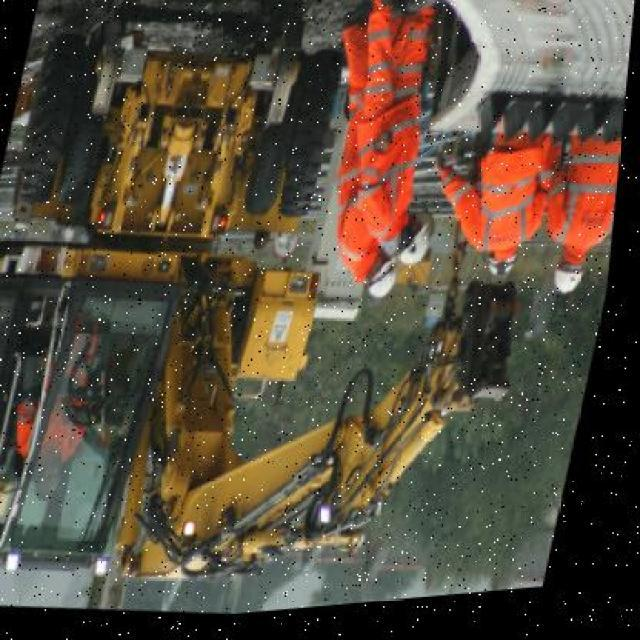helmet: (394, 217, 440, 277), (545, 263, 599, 308), (365, 266, 407, 312)
vest: (454, 139, 564, 280), (348, 111, 444, 248), (540, 145, 624, 271)
